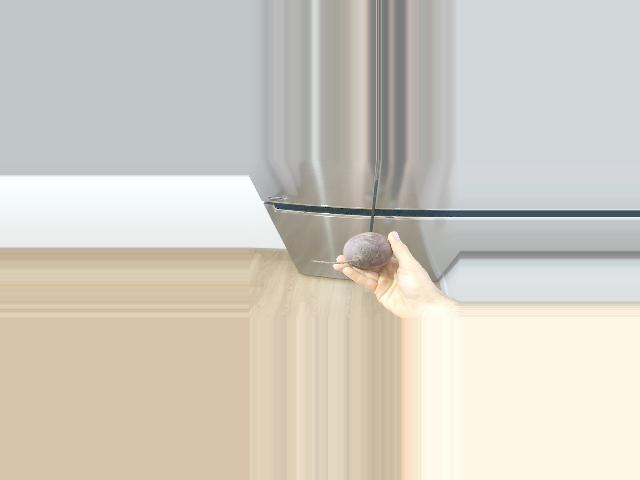beet: (310, 232, 391, 269)
